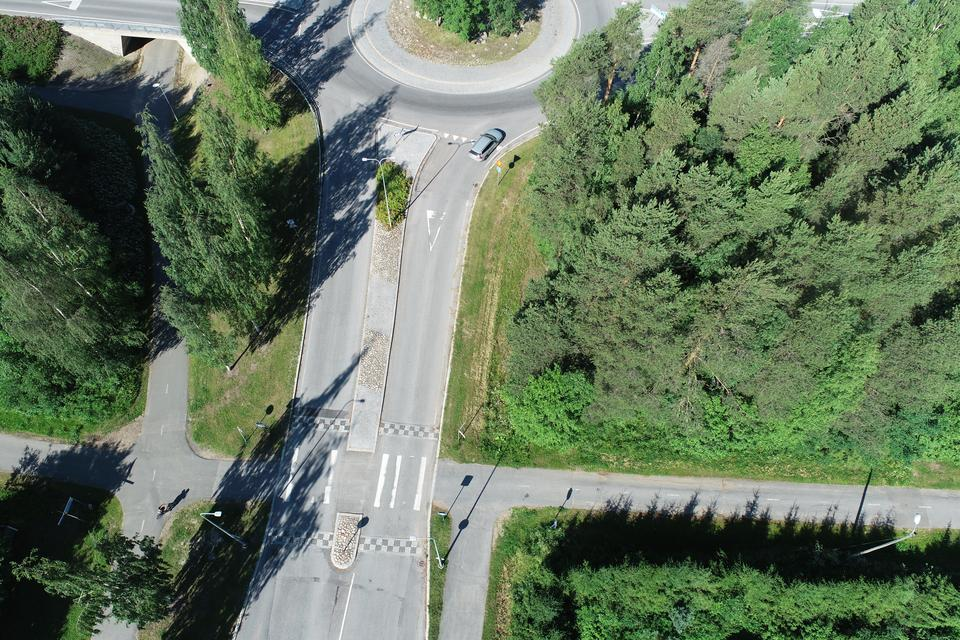intersection: (229, 407, 540, 567)
roundabout: (239, 0, 669, 196)
